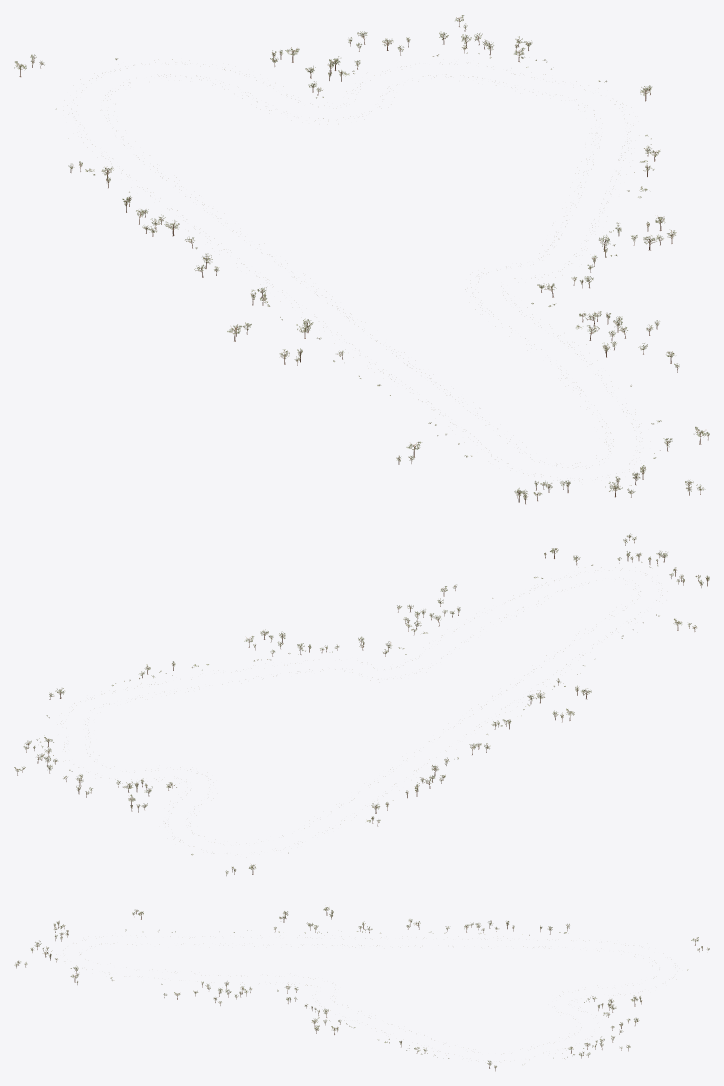
The model's file is la_chutana_vegetation.glb.
The picture shows the model from 3 angles, top to bottom: view 1: azimuth 30°, elevation 25°; view 2: azimuth 150°, elevation 25°; view 3: azimuth 270°, elevation 25°; orthographic projection. The views are drawn at different scales.
Size of the model in its own units: 599 by 15.95 by 1110.
28 materials, 4 textured.
